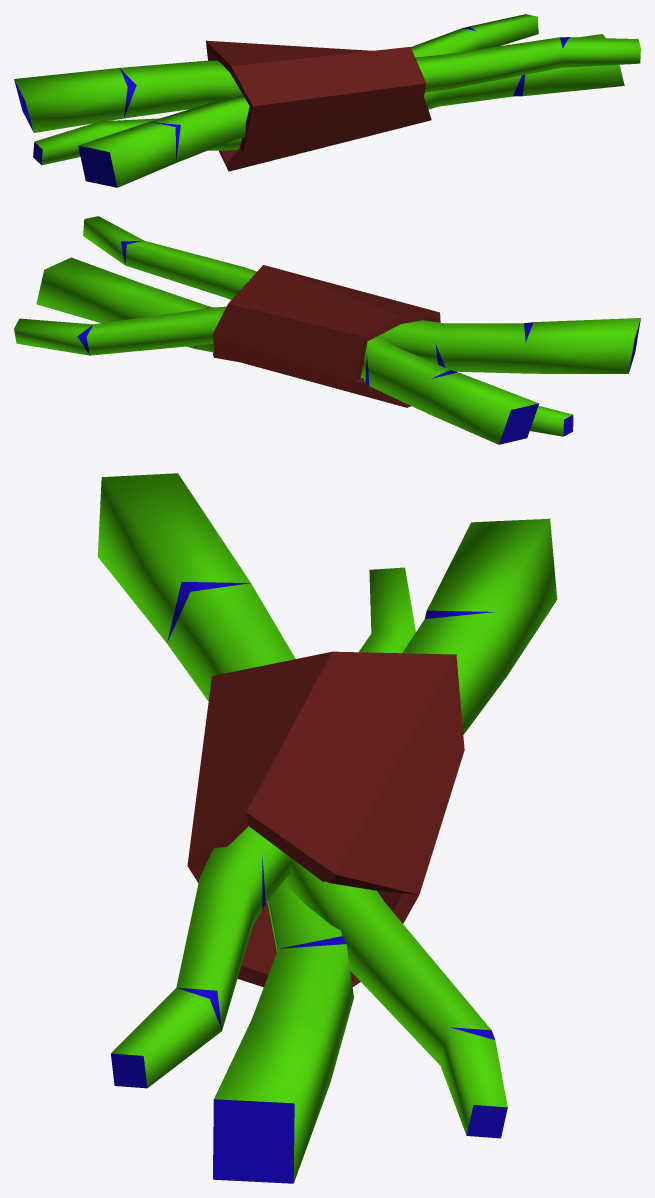
The model's file is woodStock.glb.
The picture shows the model from 3 angles, top to bottom: view 1: azimuth 30°, elevation 25°; view 2: azimuth 150°, elevation 25°; view 3: azimuth 270°, elevation 25°; orthographic projection. The views are drawn at different scales.
Parts seen in each view (by area): view 1: wood_base; view 2: wood_base; view 3: wood_base.
Boxes of the visible parts, <box> form: wood_base: <box>14,14,640,187</box>; wood_base: <box>14,216,640,444</box>; wood_base: <box>97,473,557,1183</box>.
Size of the model in its own units: 1.08 by 0.1611 by 0.3814.
